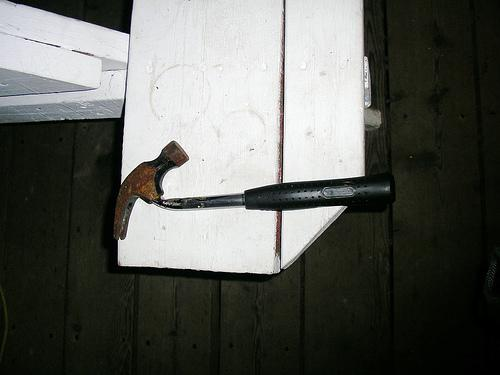hammer: (109, 137, 397, 243)
